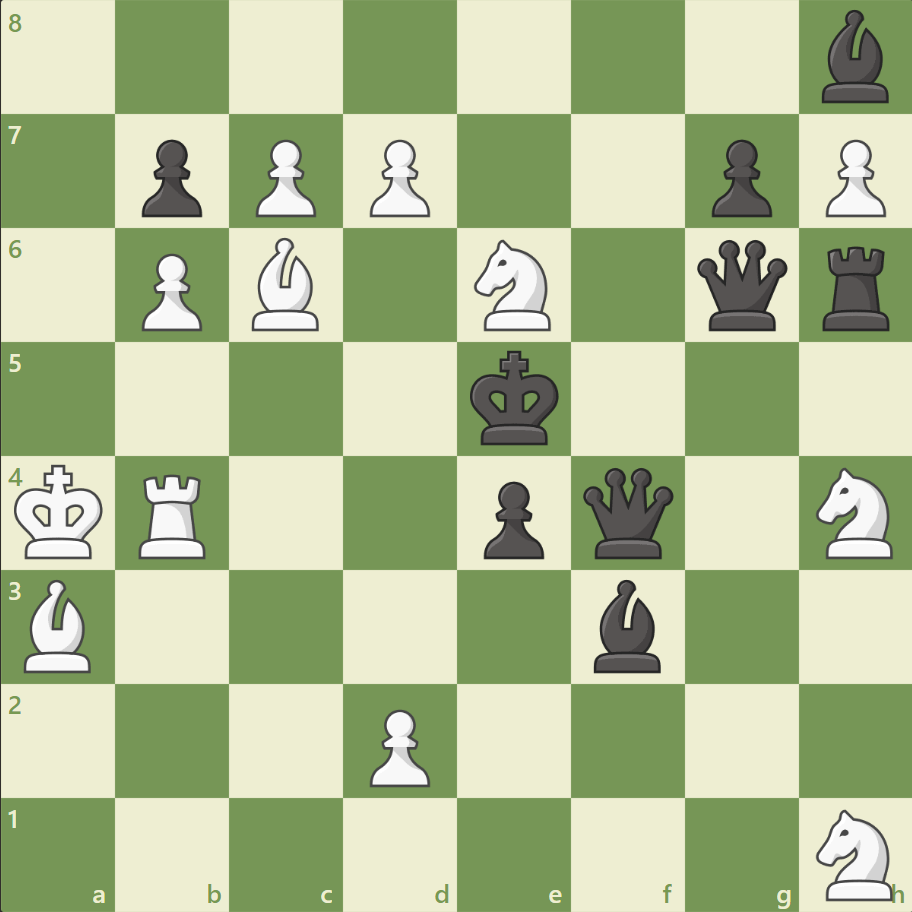B: (244, 233, 328, 336), (17, 574, 101, 676)
K: (11, 458, 111, 566)
N: (465, 234, 562, 337), (806, 461, 903, 564), (806, 802, 903, 904)
P: (247, 132, 322, 223), (133, 246, 208, 337), (361, 132, 435, 223), (815, 132, 889, 223), (361, 700, 435, 791)
R: (133, 466, 215, 563)
b: (812, 6, 896, 109), (585, 574, 669, 676)
k: (465, 344, 565, 452)
p: (133, 132, 208, 223), (701, 132, 776, 223), (474, 473, 549, 564)
q: (691, 236, 790, 335), (578, 463, 677, 562)
r: (814, 239, 897, 336)
